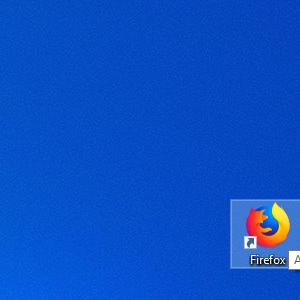firefox: (243, 201, 291, 249)
